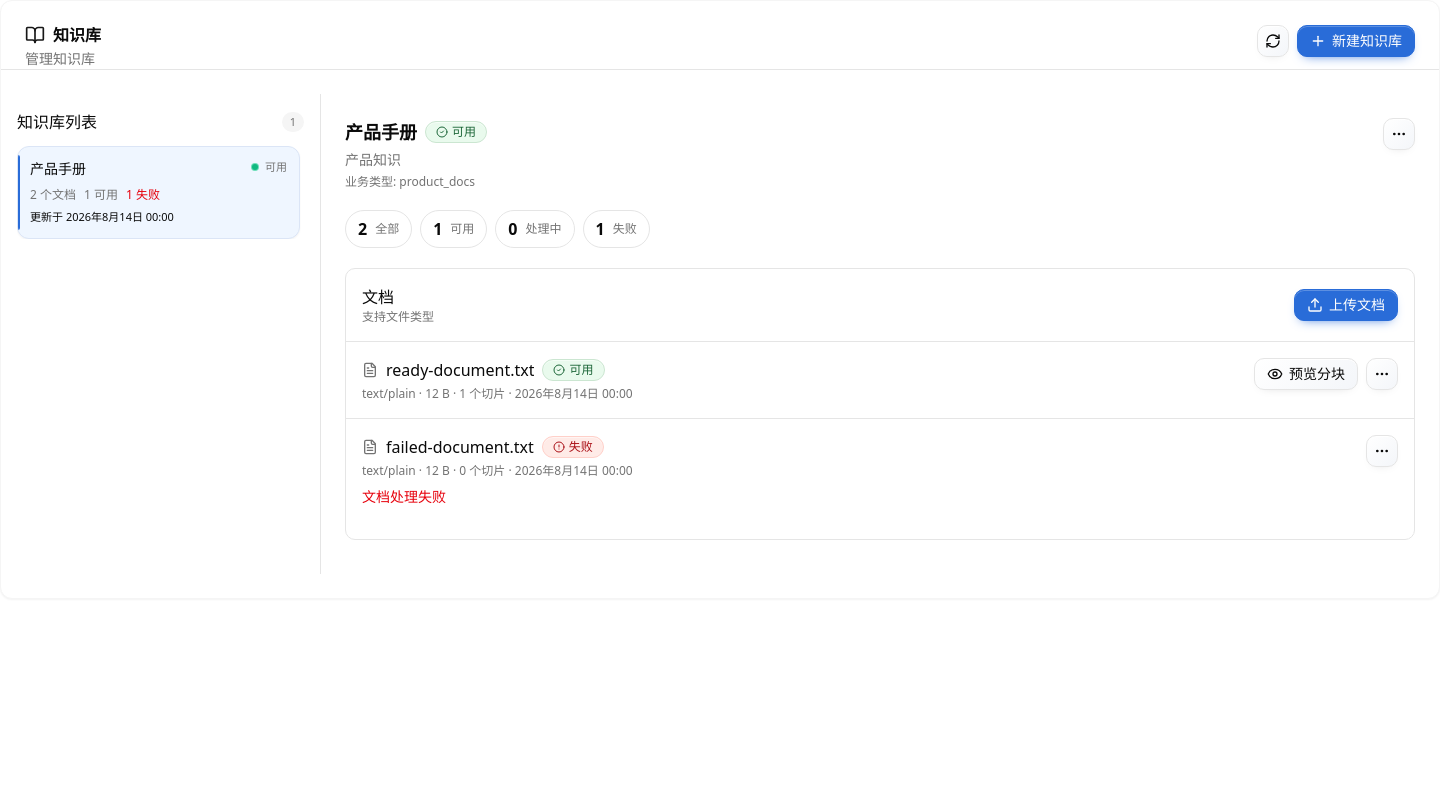
KnowledgeBaseManager › 知识库菜单进入编辑时不回聚焦菜单按钮，取消后恢复真实触发器
This screenshot has width=1440, height=810.
Click the button named "管理知识库 产品手册".
click(1399, 134)  # box [1383,118,1415,150]
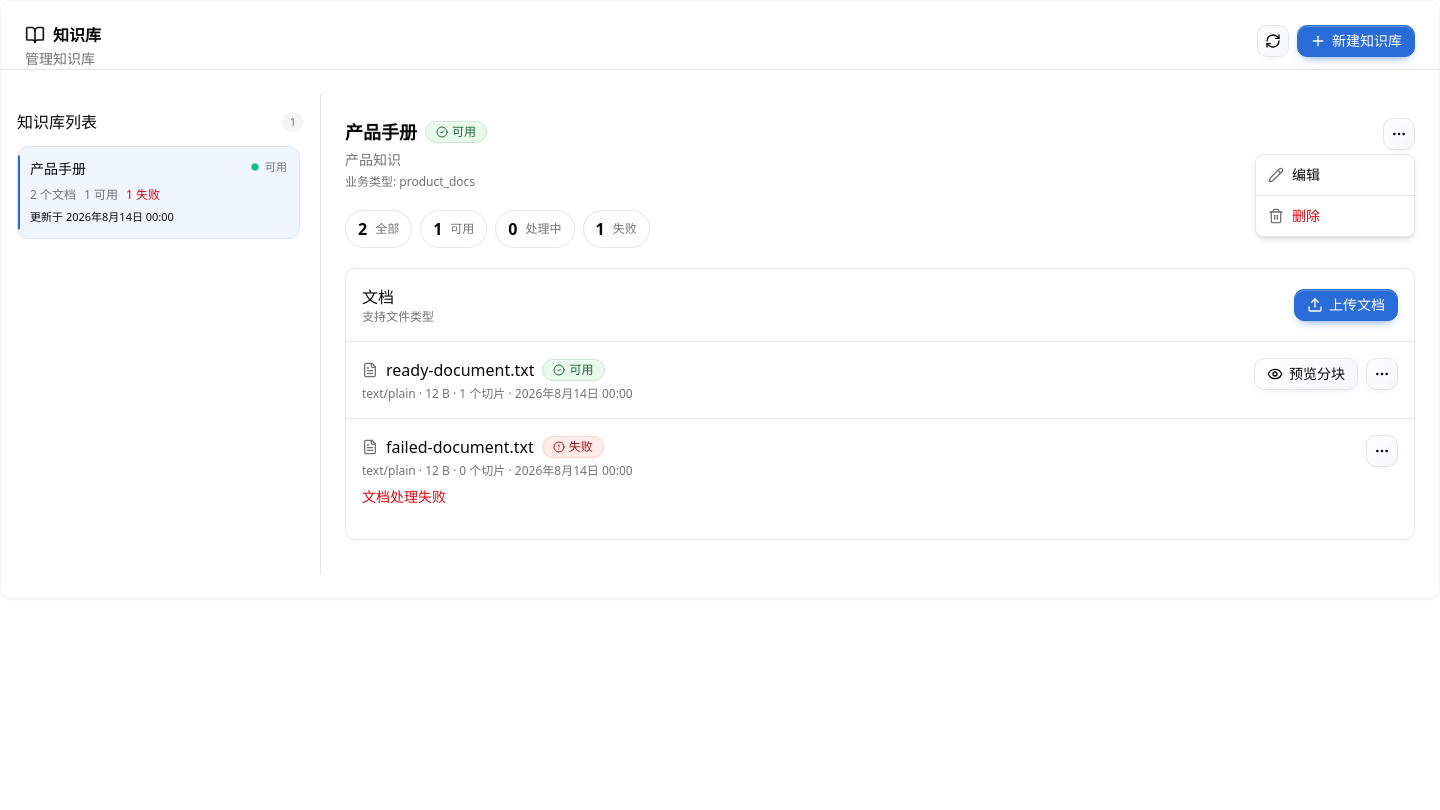
Click the menu item "编辑".
click(1294, 174)  # box [1268,165,1320,184]
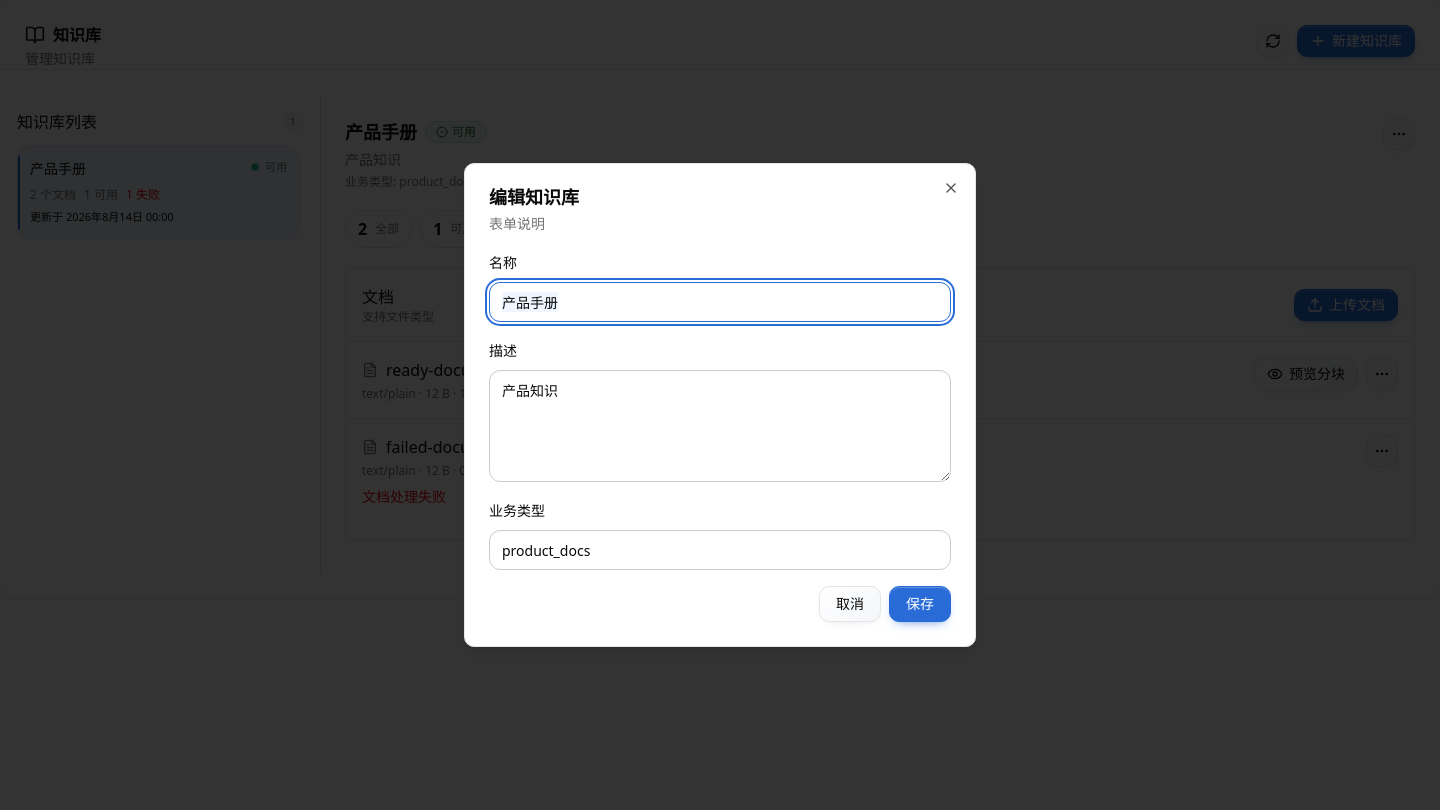
Click the button "取消".
click(850, 604)  # box [819,586,881,622]
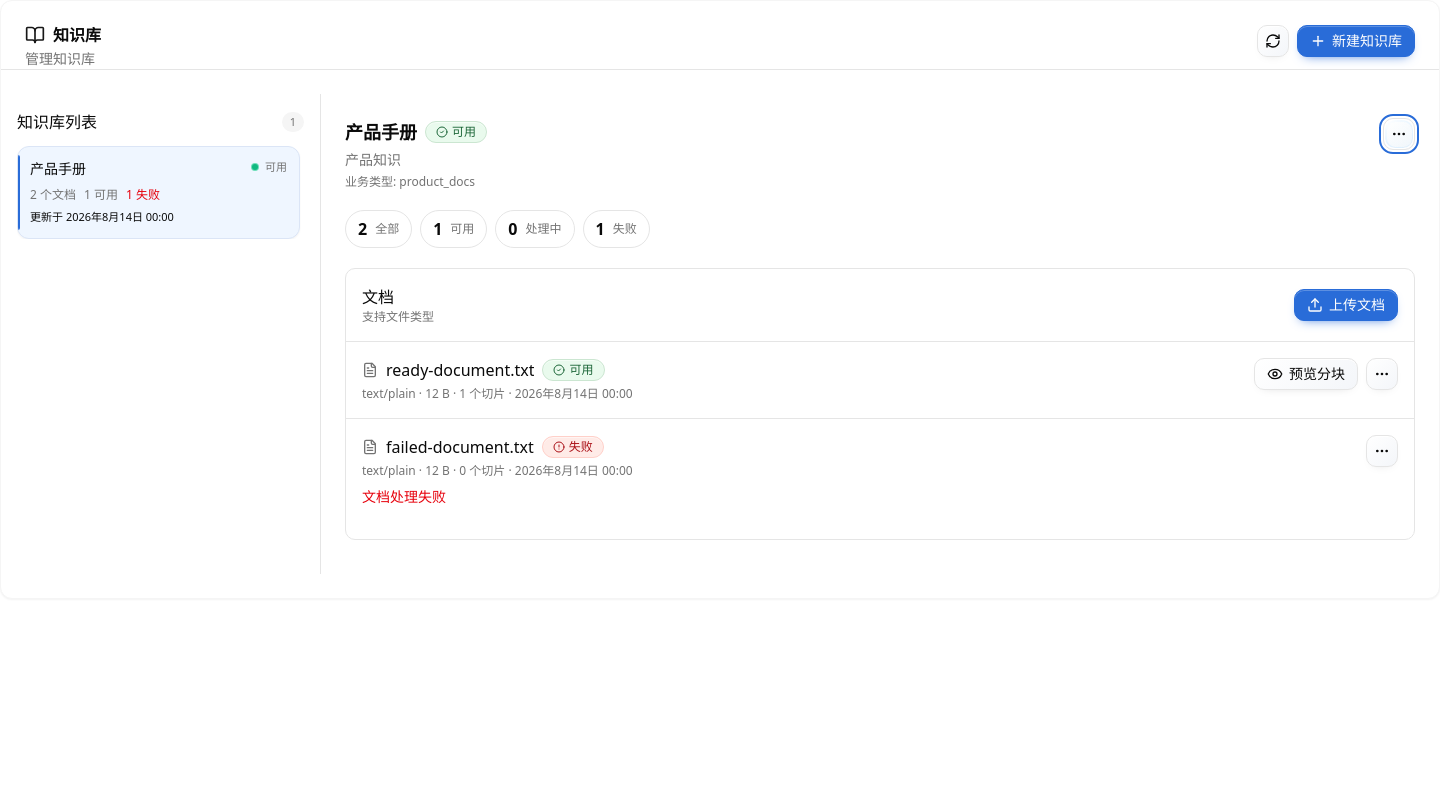
Result: the dialog is gone
